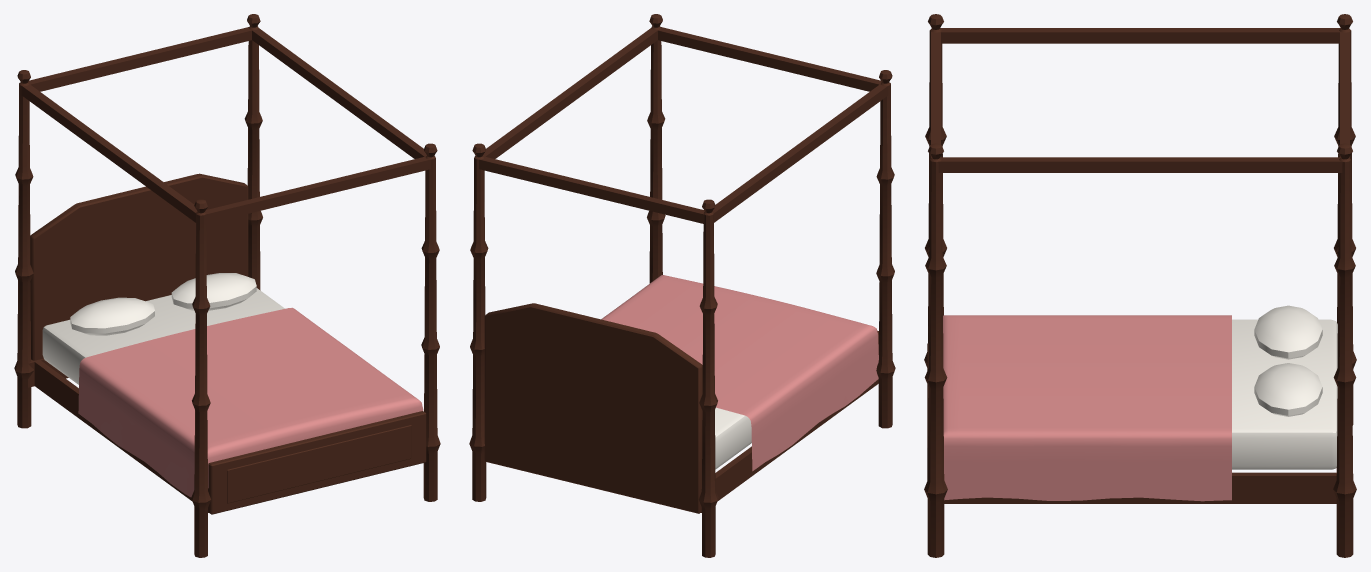
The model's file is bed_fourposter.glb.
3 views of the same model, side by side, from view 1: azimuth 30°, elevation 25°; view 2: azimuth 150°, elevation 25°; view 3: azimuth 270°, elevation 25° (orthographic). The views are drawn at different scales.
Parts seen in each view (by area): view 1: bed_fourposter, quilt; view 2: bed_fourposter, quilt; view 3: quilt, bed_fourposter.
Part boxes in pixels (<box>): bed_fourposter: <box>14,14,440,557</box>; quilt: <box>78,307,423,497</box>; bed_fourposter: <box>469,14,895,557</box>; quilt: <box>601,275,878,471</box>; quilt: <box>943,315,1231,501</box>; bed_fourposter: <box>924,14,1356,557</box>.
Bounding box in the file's own units: 1.61 × 2.2 × 2.11.
